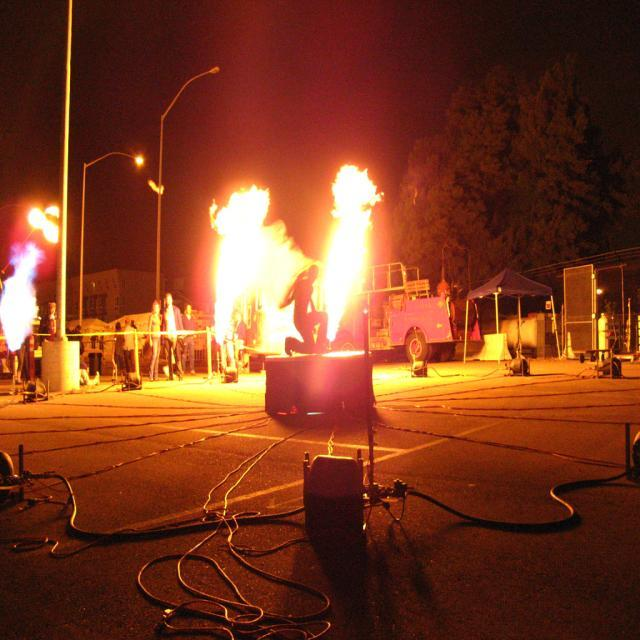Fire: (220, 194, 285, 344), (332, 165, 378, 315), (2, 265, 40, 352)
